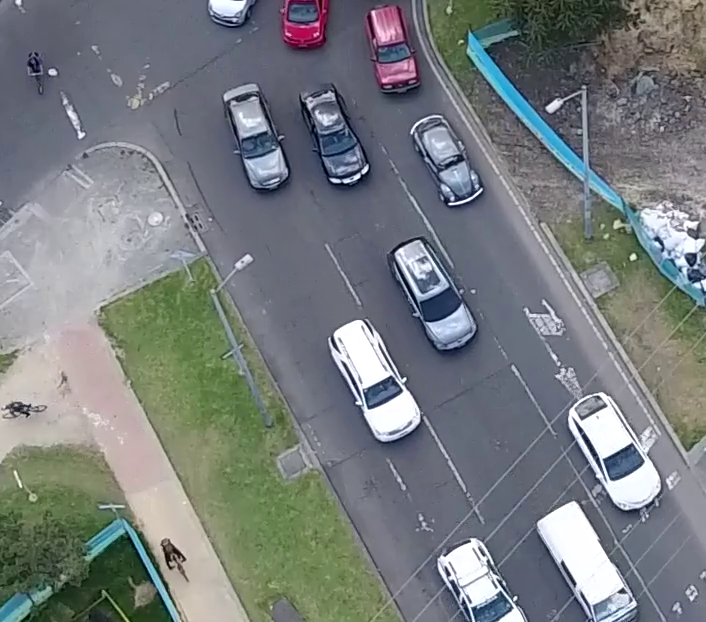car: (532, 500, 641, 622), (325, 313, 424, 445), (563, 388, 665, 516), (384, 228, 481, 354), (297, 82, 372, 193), (219, 84, 293, 193), (408, 111, 487, 209), (361, 3, 424, 94)
